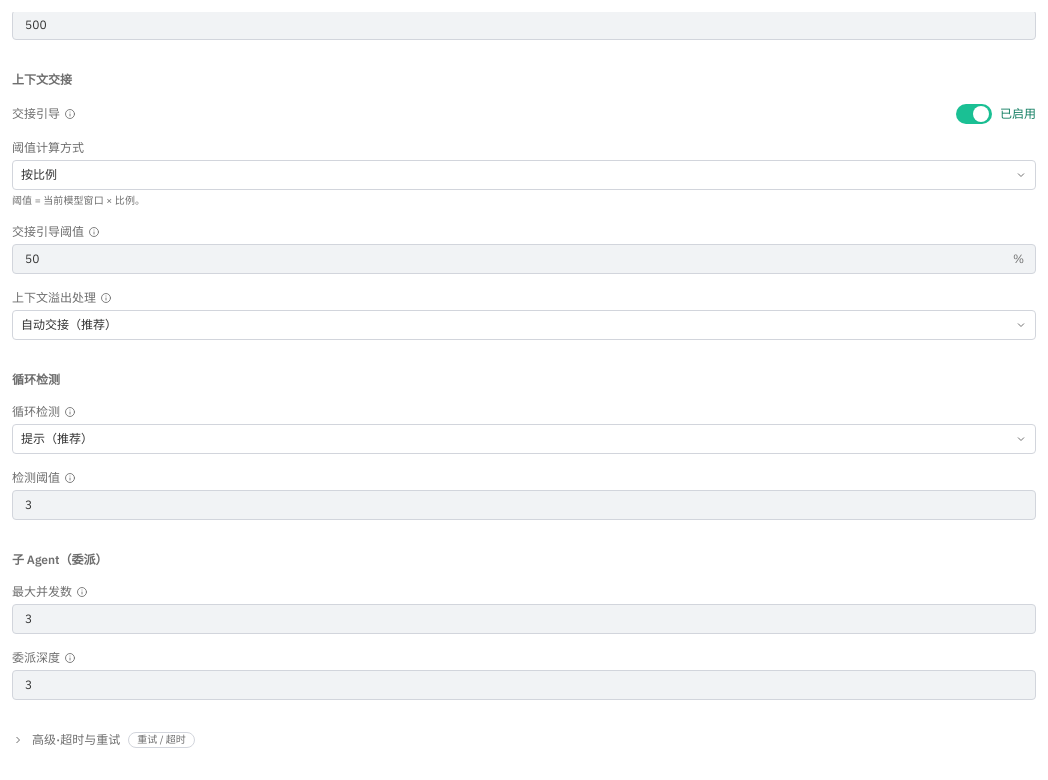
Test: AgentTab › 渲染分节、命名表标签与页重置
(page scrolled)
Expected: the heading "上下文交接" is shown, [12,72,72,87]
Expected: the heading "循环检测" is shown, [12,372,60,387]
Click the text "高级·超时与重试". click: click(76, 740)
box: [32,732,120,748]
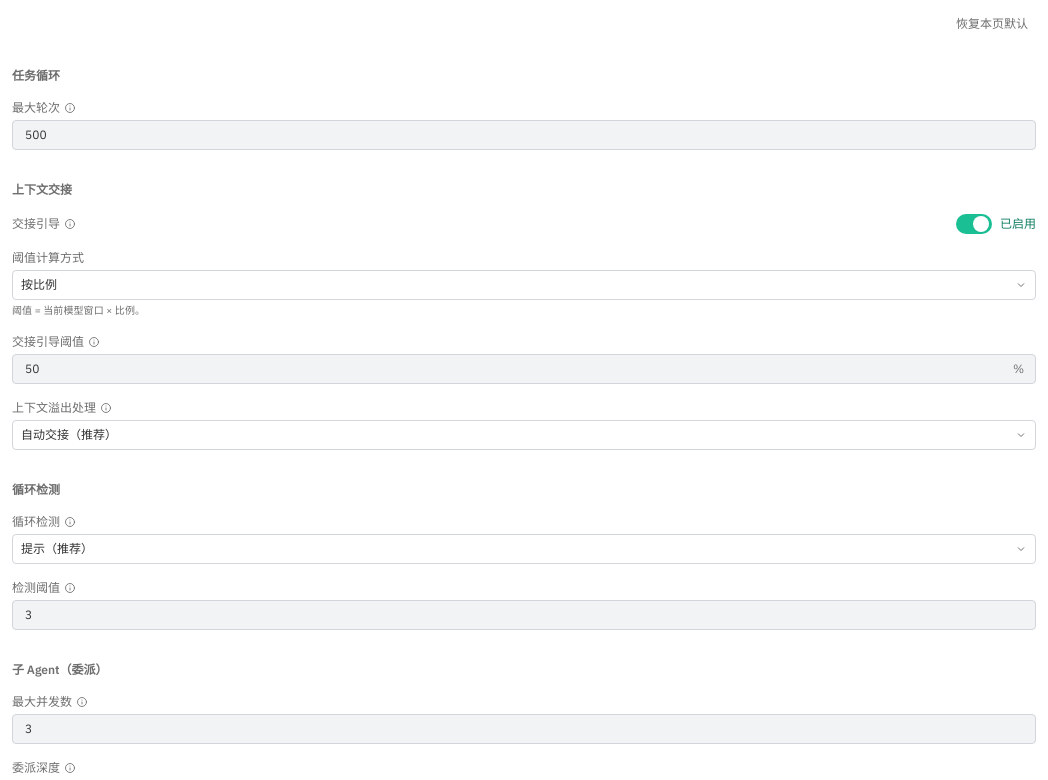
Expected: the text "交接引导阈值" is shown, [12,334,764,356]
Expected: the text "恢复本页默认" is shown, [956,16,1028,31]
